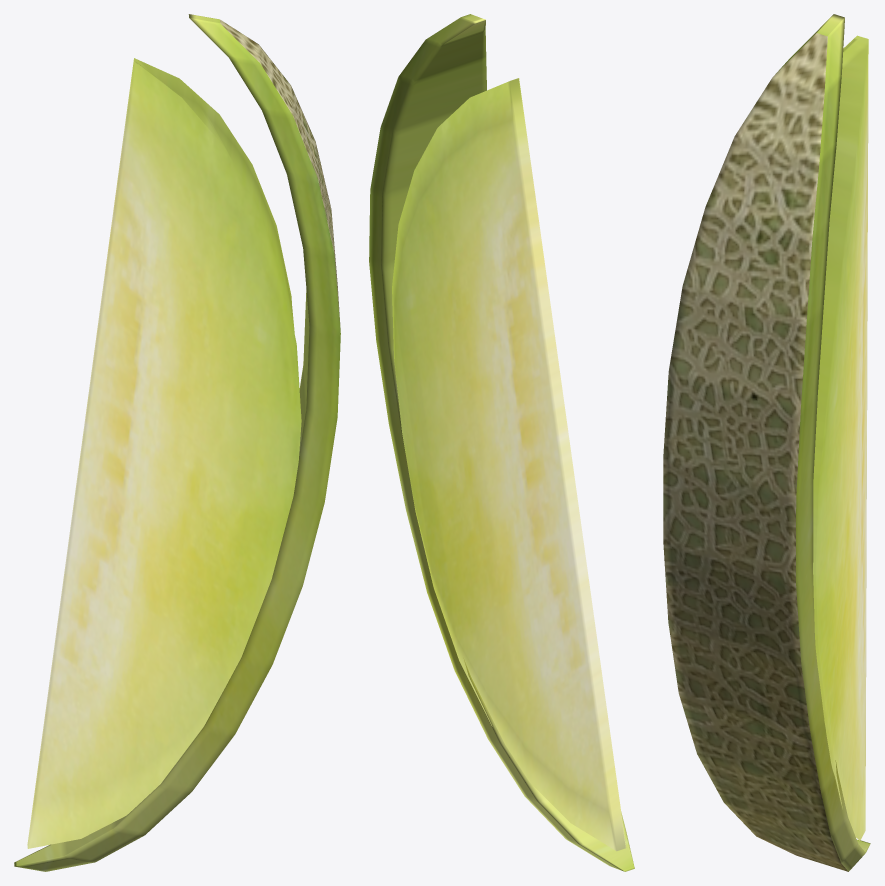
The model's file is melon.glb.
3 renders of one model, left to right at view 1: azimuth 30°, elevation 25°; view 2: azimuth 150°, elevation 25°; view 3: azimuth 270°, elevation 25°, orthographic. The views are drawn at different scales.
Parts seen in each view (by area): view 1: melon; view 2: melon; view 3: melon.
Boxes of the visible parts, <box> form: melon: <box>14,14,340,871</box>; melon: <box>369,14,634,871</box>; melon: <box>663,14,870,871</box>.
Size of the model in its own units: 1.69 by 4.47 by 0.912.
3 materials, 3 textured.
